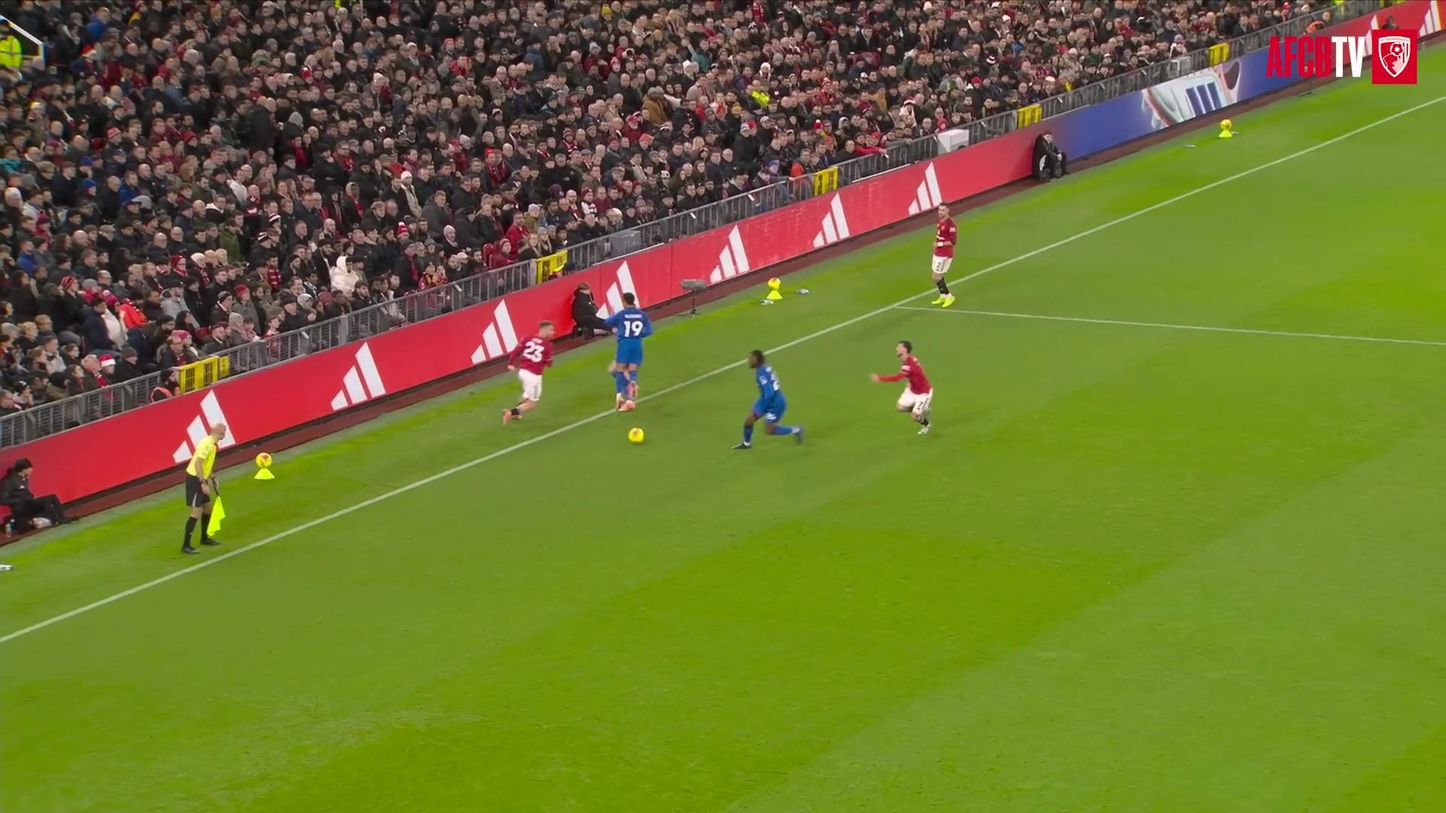football: (255, 452, 271, 468), (627, 428, 644, 443), (767, 278, 781, 291)
player: (733, 349, 803, 448), (871, 340, 932, 434), (605, 292, 651, 410), (502, 321, 554, 425), (931, 205, 956, 307)
referee: (182, 422, 226, 553)
